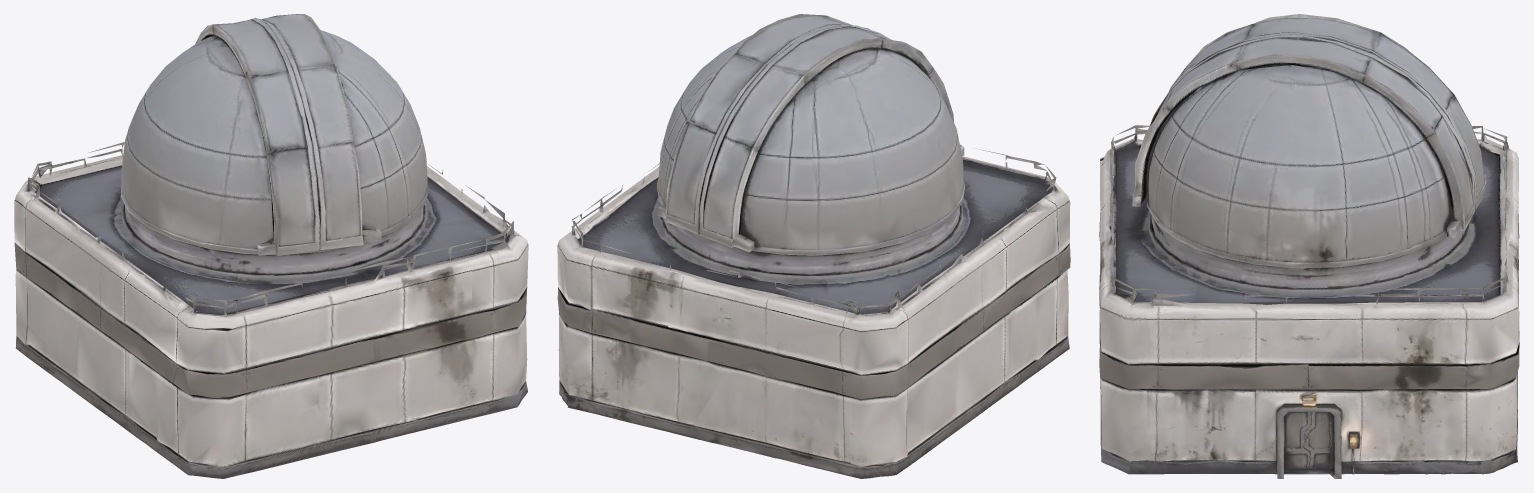
File: obsDome.glb
3 views of the same model, side by side, from view 1: azimuth 30°, elevation 25°; view 2: azimuth 150°, elevation 25°; view 3: azimuth 270°, elevation 25° (orthographic). The views are drawn at different scales.
Parts seen in each view (by area): view 1: obsDome; view 2: obsDome; view 3: obsDome.
Boxes of the visible parts, left/top/right/bottom form: obsDome: left=14, top=14, right=528, bottom=478; obsDome: left=557, top=14, right=1070, bottom=478; obsDome: left=1099, top=14, right=1519, bottom=478.
Bounding box in the file's own units: 10 × 9.2 × 9.91.
1 material, 1 textured.
